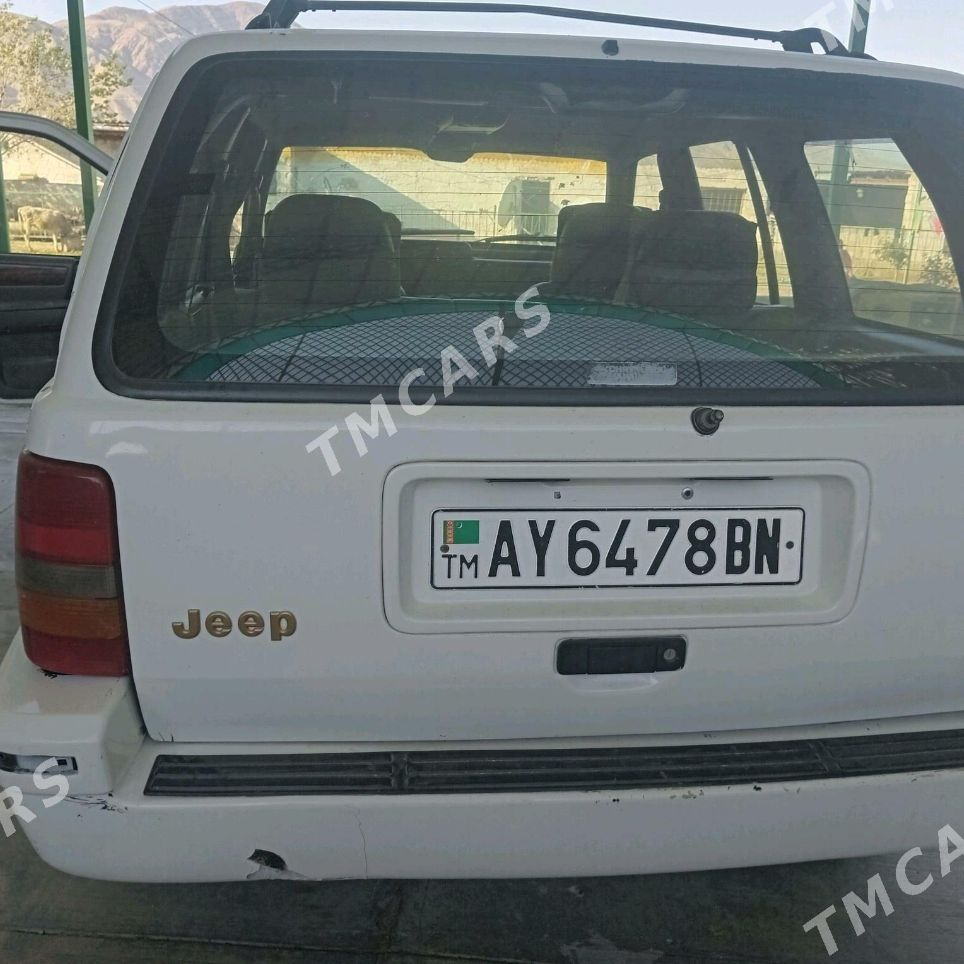license plate: (433, 512, 808, 585)
truck: (4, 30, 954, 881)
